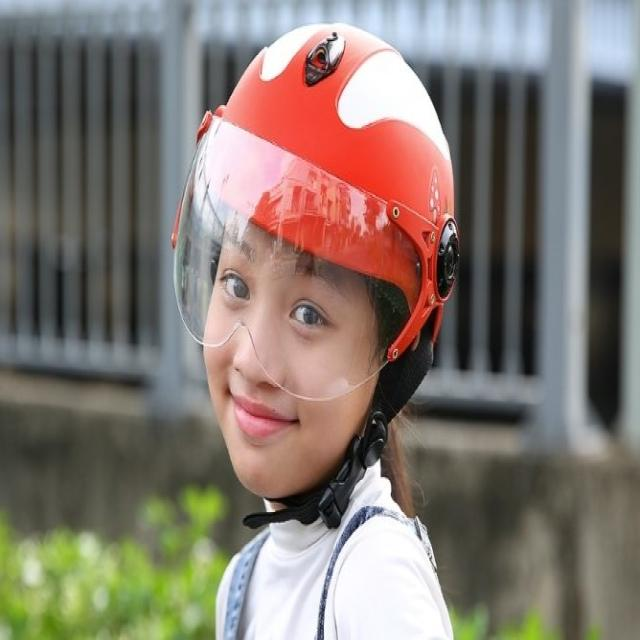helmet: (169, 16, 466, 410)
